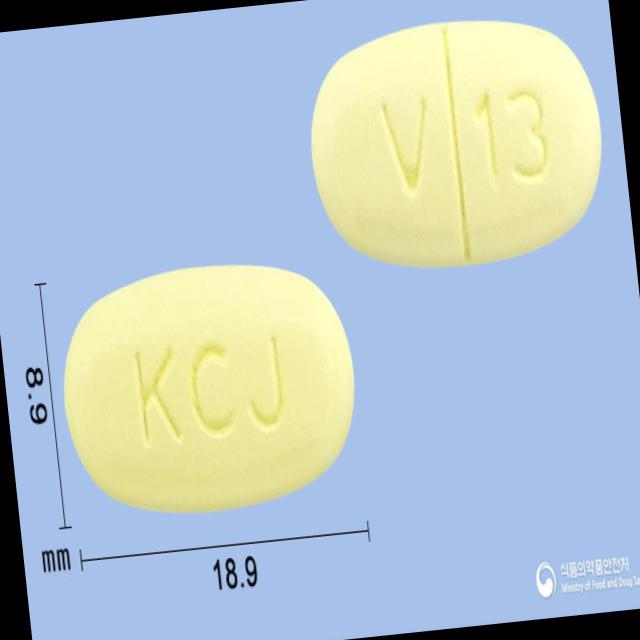Retami Tab: (50, 248, 368, 526), (297, 2, 615, 280)
